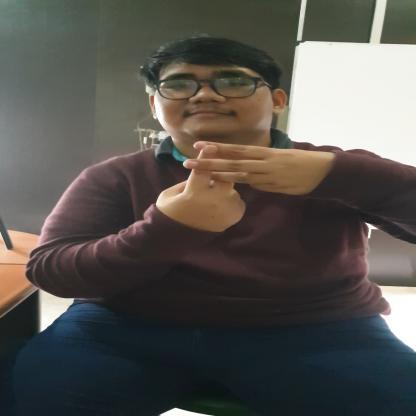B: (138, 140, 306, 228)
